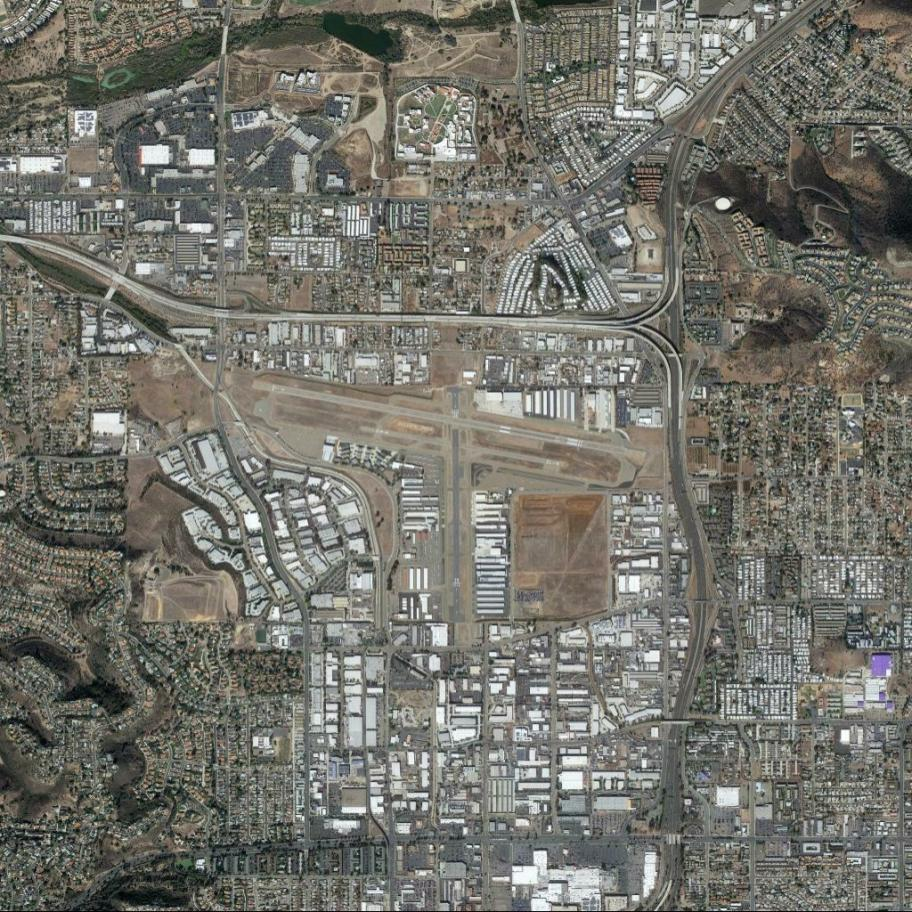storage-tank: (716, 196, 731, 211)
